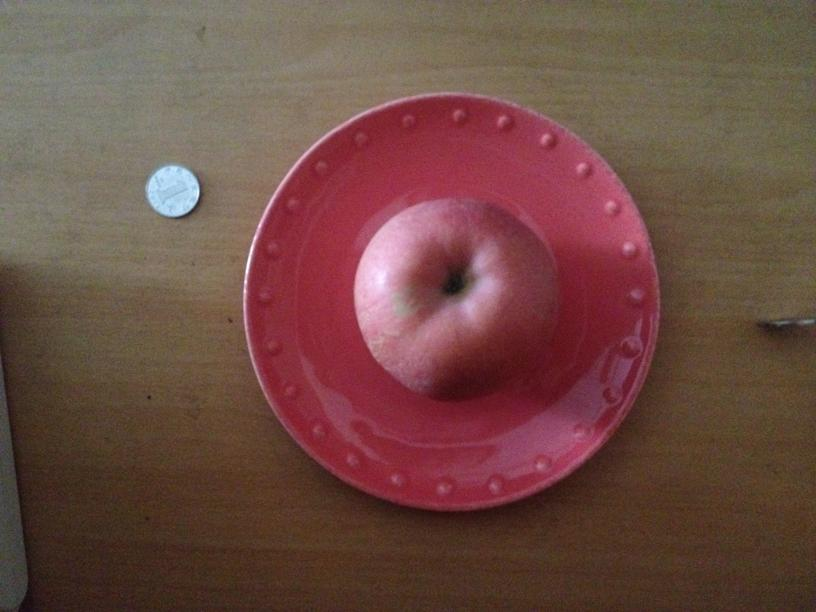apple: (356, 195, 560, 398)
coin: (142, 163, 202, 218)
